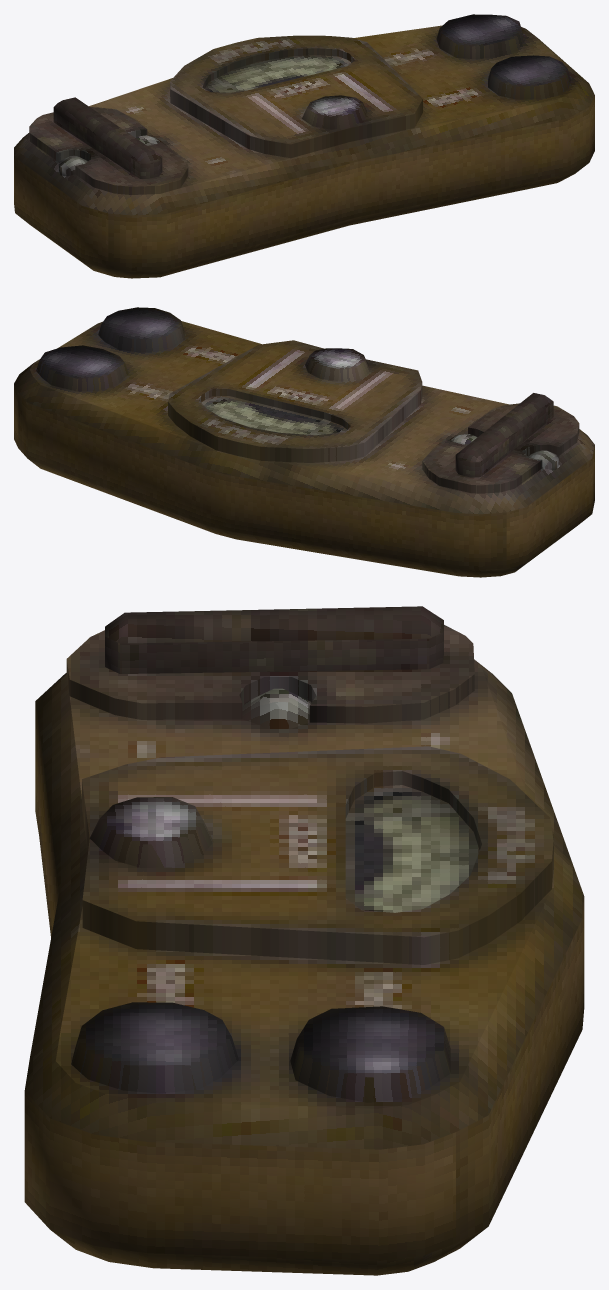
The model's file is dosimeter_2.glb.
The picture shows the model from 3 angles, top to bottom: view 1: azimuth 30°, elevation 25°; view 2: azimuth 150°, elevation 25°; view 3: azimuth 270°, elevation 25°; orthographic projection. The views are drawn at different scales.
Parts seen in each view (by area): view 1: dosimeter_2; view 2: dosimeter_2; view 3: dosimeter_2.
Part boxes in pixels (x1,y1,x2,y2): dosimeter_2: [14, 14, 594, 278]; dosimeter_2: [14, 307, 594, 577]; dosimeter_2: [24, 606, 584, 1275].
Size of the model in its own units: 0.3097 by 0.0656 by 0.1459.
Materials: 1 (1 with a texture image).
